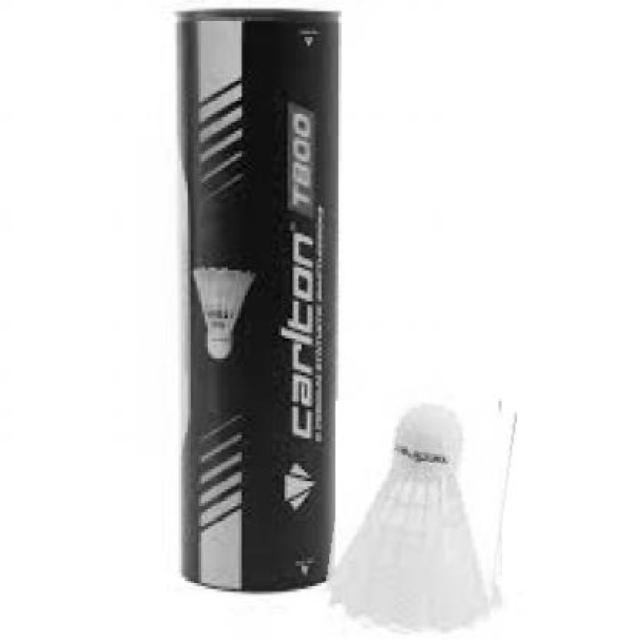Shuttlecock: (329, 395, 509, 637)
